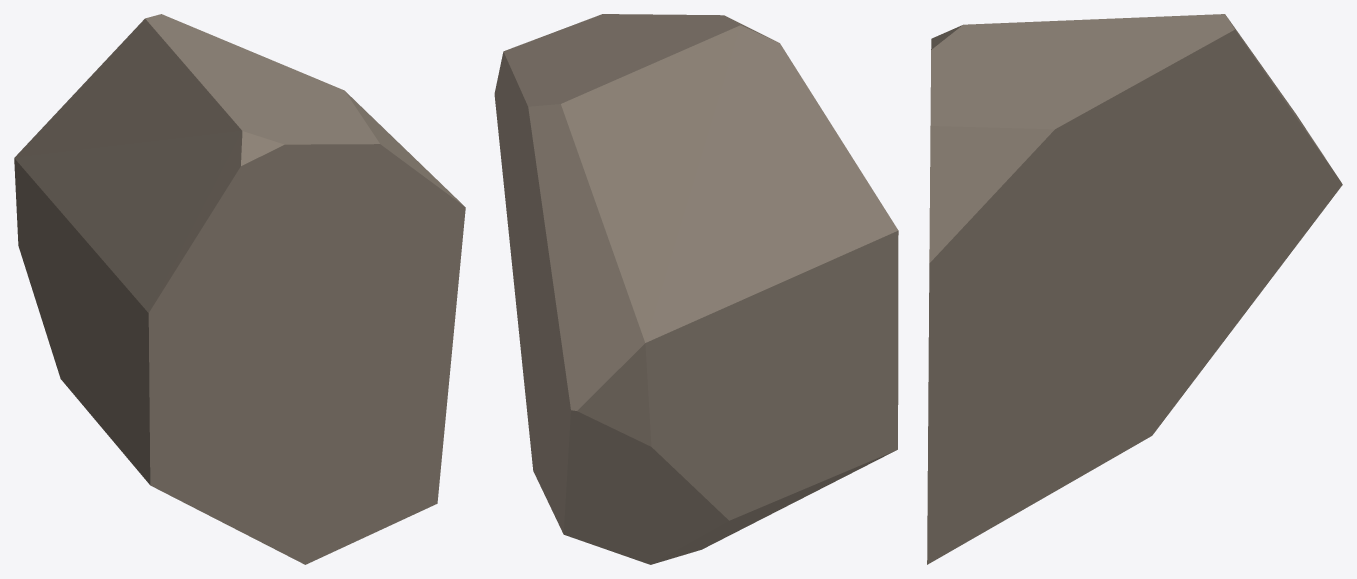
File: stone3.dae
3 renders of one model, left to right at view 1: azimuth 30°, elevation 25°; view 2: azimuth 150°, elevation 25°; view 3: azimuth 270°, elevation 25°, orthographic. The views are drawn at different scales.
Parts seen in each view (by area): view 1: Stone2.1; view 2: Stone2.1; view 3: Stone2.1.
Boxes of the visible parts, x1,y1,x2,y2 form: Stone2.1: (14, 14, 465, 564); Stone2.1: (494, 14, 898, 564); Stone2.1: (927, 14, 1342, 564).
Bounding box in the file's own units: 1.27 × 1.31 × 1.73.
Materials: 1 (1 with a texture image).
